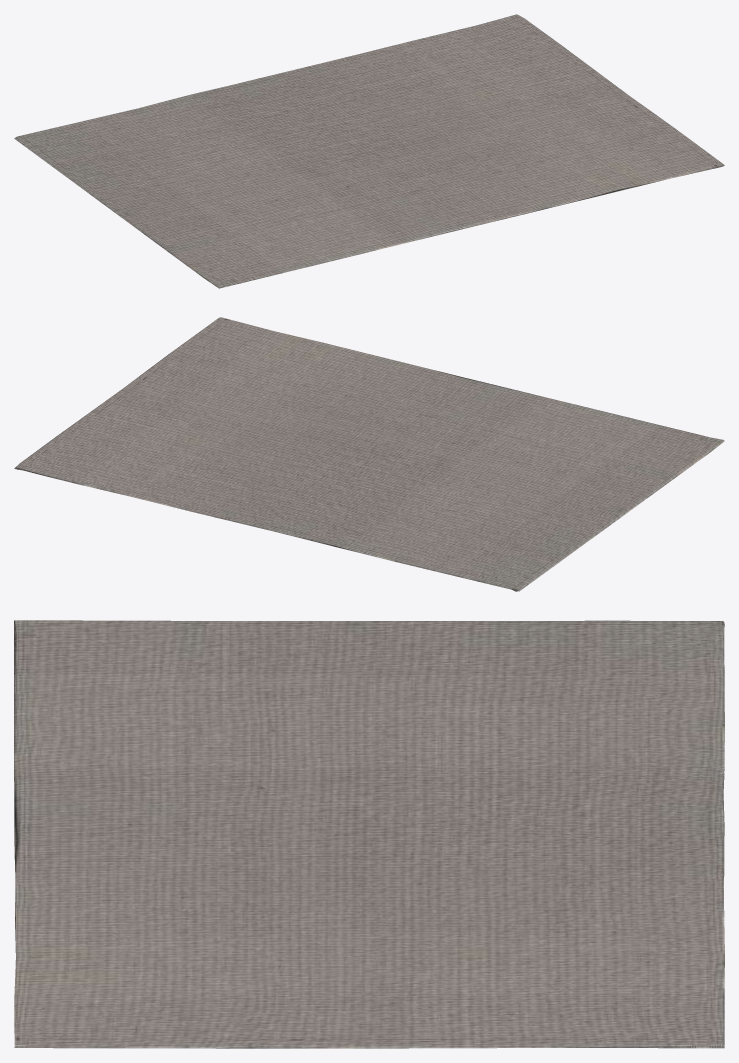
The model's file is 07 - TIPHEDE Rug, flatwoven - blacknatural 155x220 cm.glb.
3 views of the same model, one above another, from view 1: azimuth 30°, elevation 25°; view 2: azimuth 150°, elevation 25°; view 3: azimuth 270°, elevation 25° (orthographic). The views are drawn at different scales.
Visible parts, largest first — view 1: ASY_ART_20470047_S01_NV01; view 2: ASY_ART_20470047_S01_NV01; view 3: ASY_ART_20470047_S01_NV01.
Boxes of the visible parts, x1,y1,x2,y2 form: ASY_ART_20470047_S01_NV01: (14, 14, 724, 288); ASY_ART_20470047_S01_NV01: (14, 317, 724, 591); ASY_ART_20470047_S01_NV01: (14, 620, 724, 1048).
Bounding box in the file's own units: 2.2 × 0.0102 × 1.55.
1 material, 1 textured.
